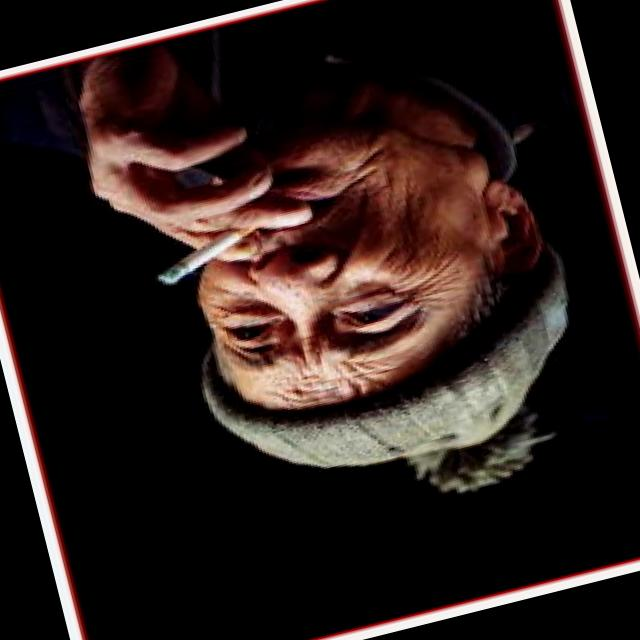cigarette: (148, 206, 272, 287)
